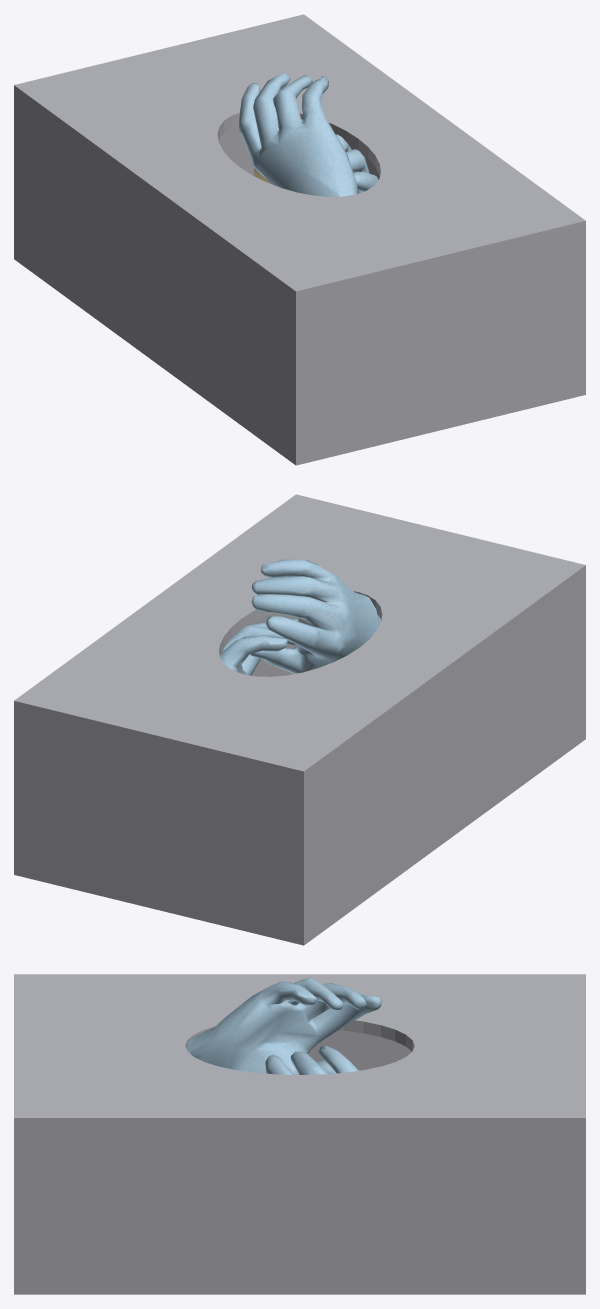
The model's file is handschoenendoos.fbx.
3 views of the same model, one above another, from view 1: azimuth 30°, elevation 25°; view 2: azimuth 150°, elevation 25°; view 3: azimuth 270°, elevation 25° (orthographic).
Parts seen in each view (by area): view 1: Cube, group_1.001, group_1.006; view 2: Cube, group_1.001, group_1.006; view 3: Cube, group_1.001, group_1.006.
Boxes of the visible parts, x1=… form: Cube: x1=14, y1=14, x2=585, y2=465; group_1.001: x1=238, y1=72, x2=357, y2=196; group_1.006: x1=336, y1=134, x2=378, y2=193; Cube: x1=14, y1=494, x2=585, y2=945; group_1.001: x1=250, y1=559, x2=381, y2=673; group_1.006: x1=220, y1=619, x2=298, y2=675; Cube: x1=14, y1=974, x2=585, y2=1294; group_1.001: x1=186, y1=977, x2=382, y2=1074; group_1.006: x1=265, y1=1045, x2=358, y2=1074.
Size of the model in its own units: 0.334 by 0.2654 by 0.5627.
